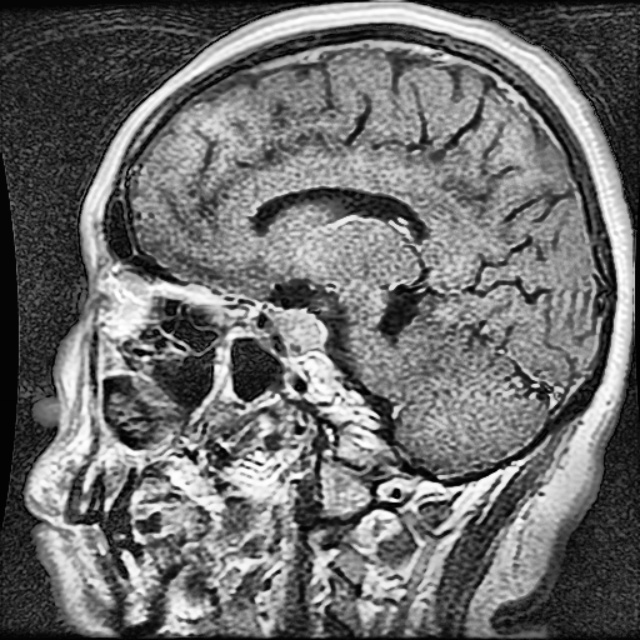Pituitary: (259, 303, 325, 357)
